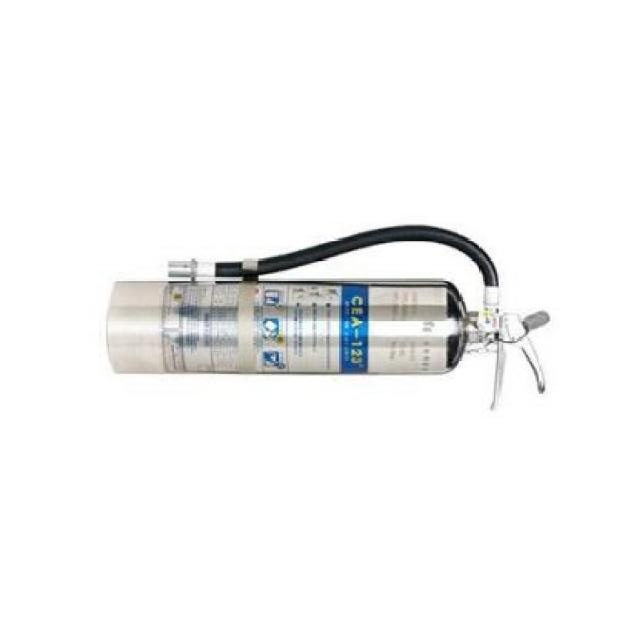fire extinguisher: (106, 225, 546, 411)
